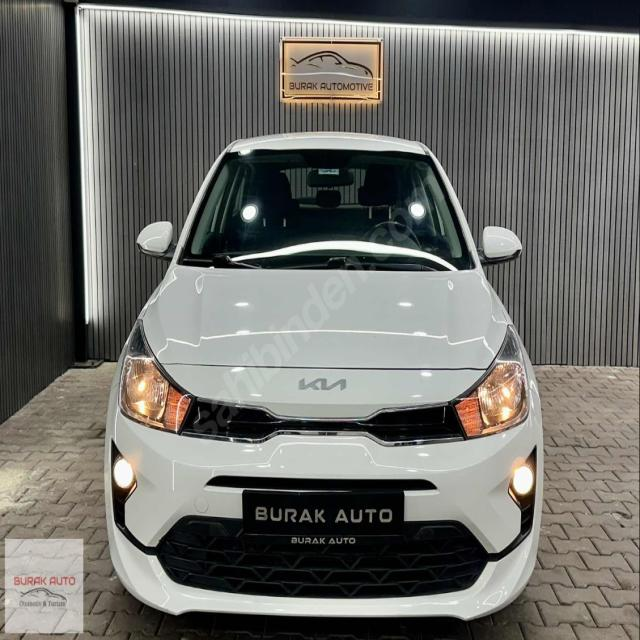kia: (294, 371, 351, 400)
